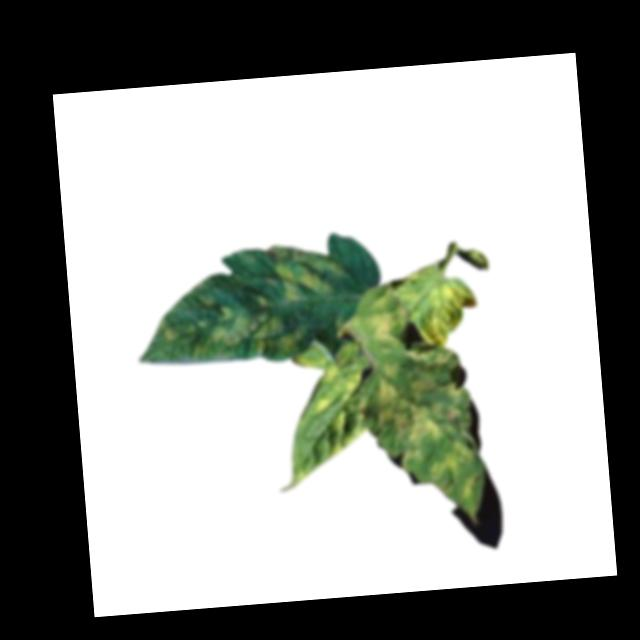Leaf_Mold: (361, 344, 488, 524), (146, 293, 309, 371), (285, 362, 373, 487), (393, 260, 481, 351), (265, 238, 347, 307), (354, 282, 405, 354)
